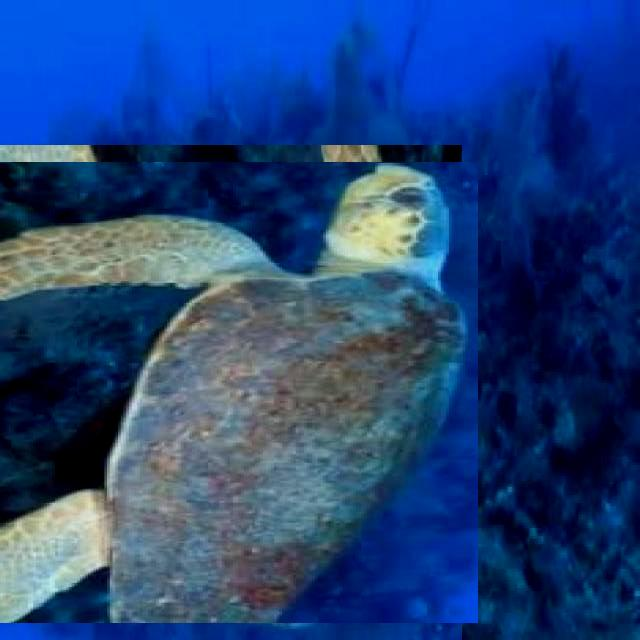Sea turtle: (0, 153, 470, 631)
